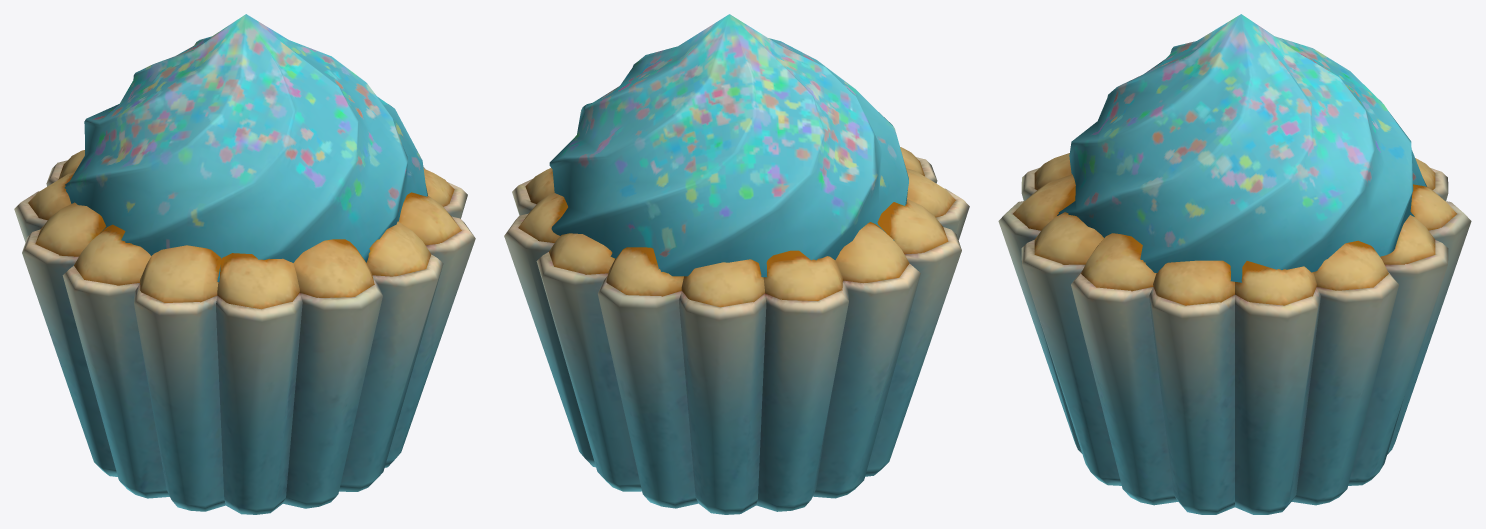
Rendered from 0-cupcake_blue.fbx.
The picture shows the model from 3 angles, left to right: view 1: azimuth 30°, elevation 25°; view 2: azimuth 150°, elevation 25°; view 3: azimuth 270°, elevation 25°; orthographic projection.
Parts seen in each view (by area): view 1: 0-cupcake_blue; view 2: 0-cupcake_blue; view 3: 0-cupcake_blue.
Part boxes in pixels (x1=…): 0-cupcake_blue: x1=14, y1=14, x2=475, y2=514; 0-cupcake_blue: x1=504, y1=14, x2=969, y2=514; 0-cupcake_blue: x1=998, y1=14, x2=1471, y2=514.
Bounding box in the file's own units: 81.14 × 86.26 × 83.22.
